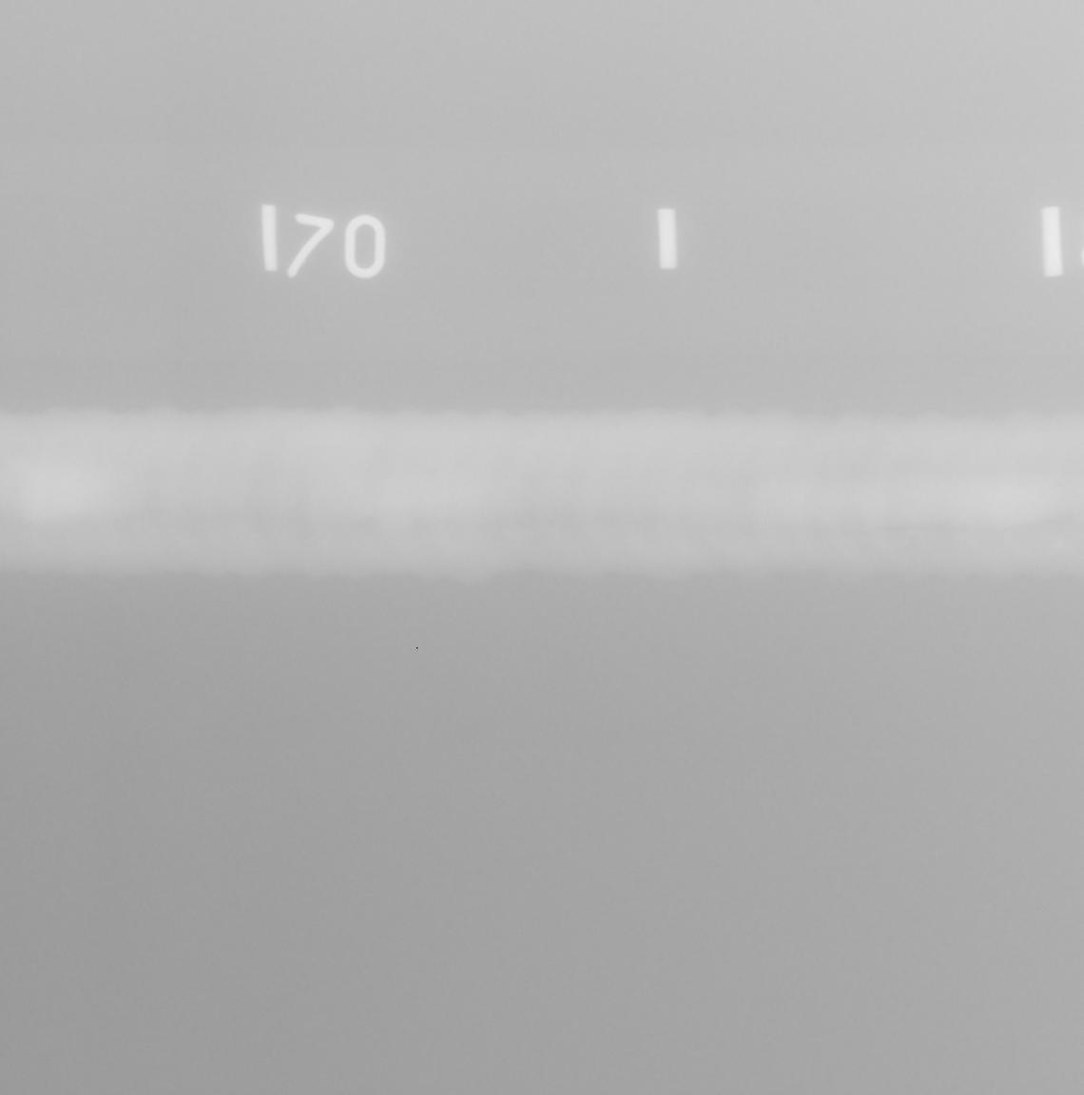Pore/Porosity: (1055, 482, 1063, 488)
